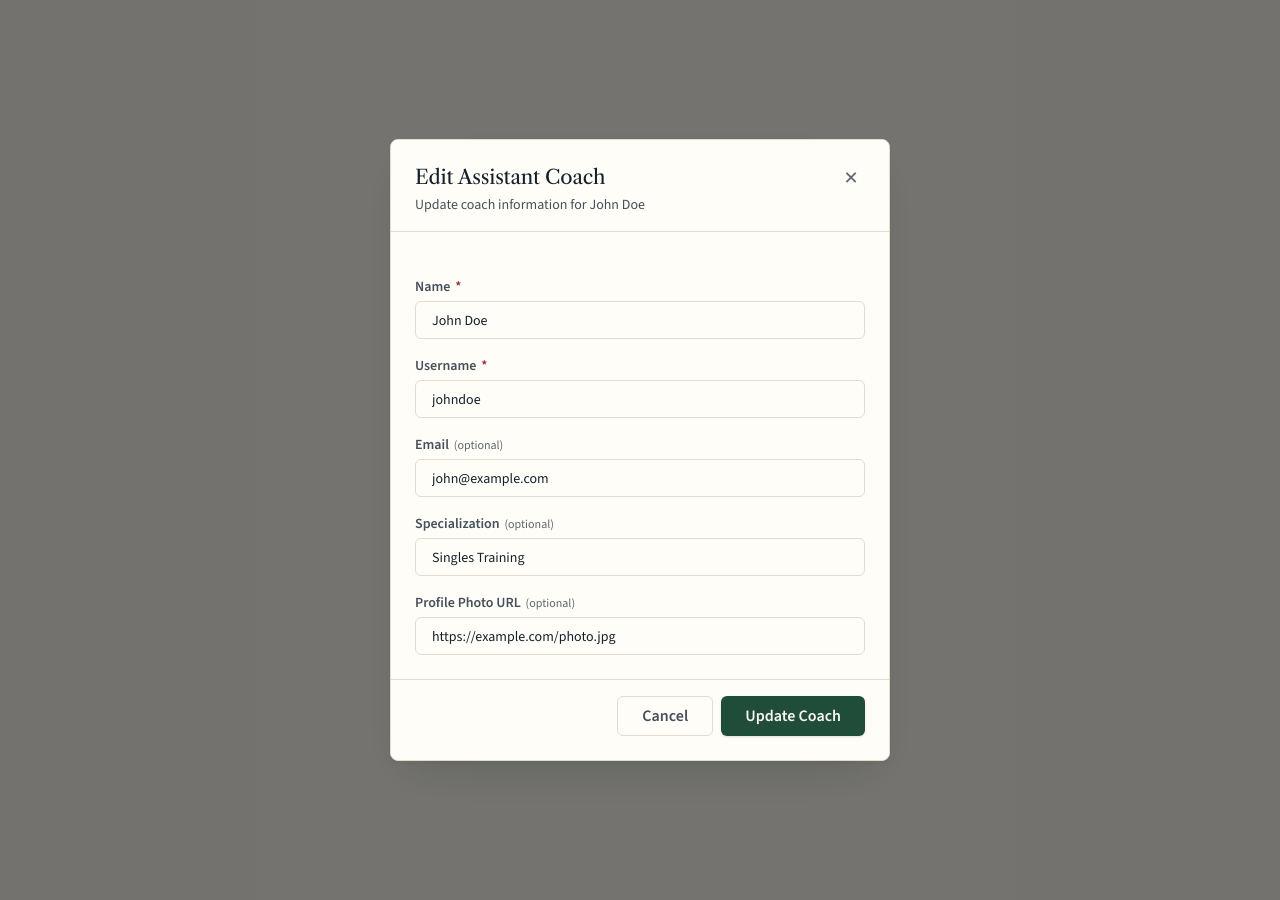
Test: EditCoachModal › validates required fields on submit
// Clear required fields
Clear the field labelled "Name *" at x=640, y=320, box [415,301,865,339]
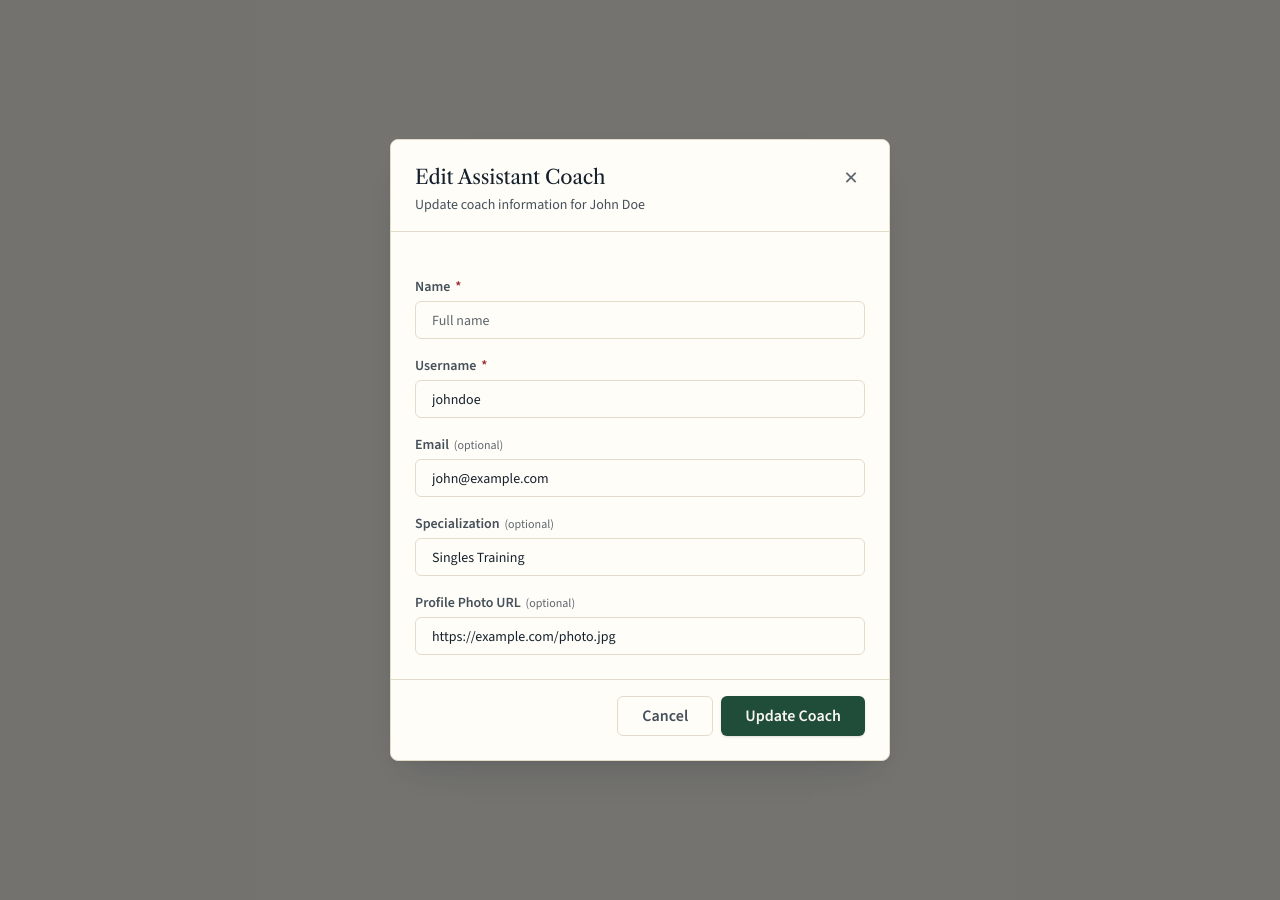
Clear the field labelled "Username *" at x=640, y=399, box [415,380,865,418]
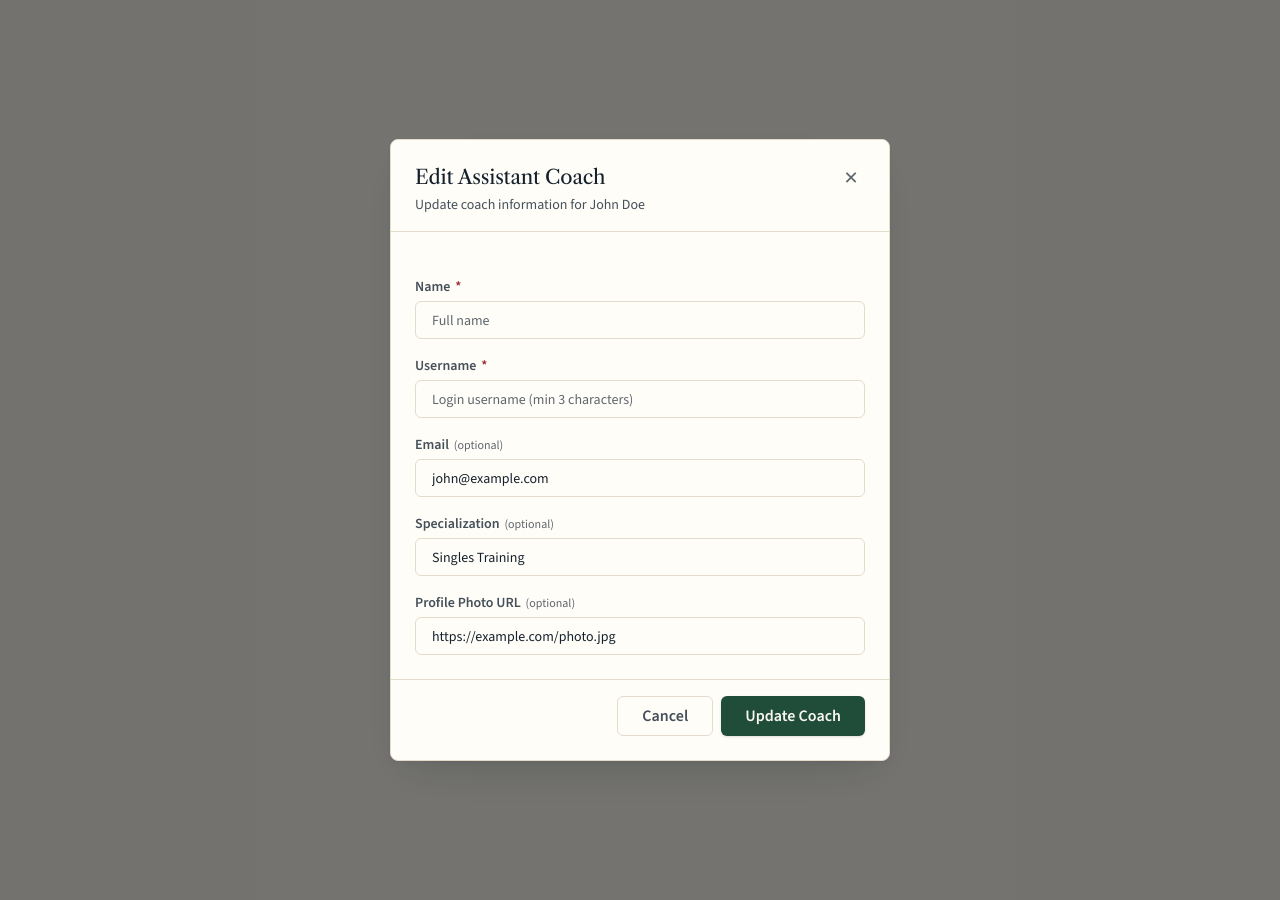
Click the button "Update Coach" at x=793, y=716, box [721,696,865,736]
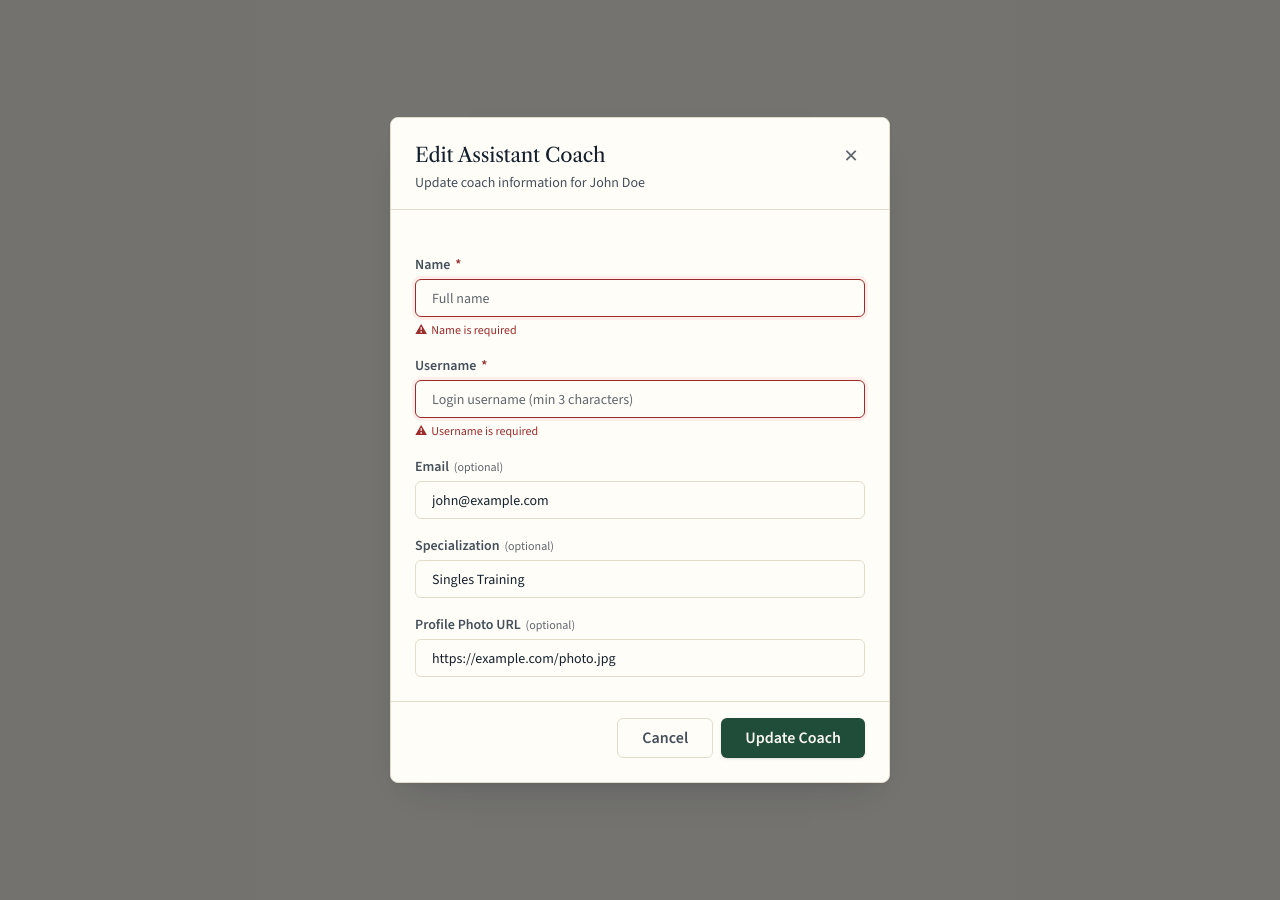
Check: the text "Name is required" is shown, box [431,322,517,338]
Check: the text "Username is required" is shown, box [431,423,538,439]
